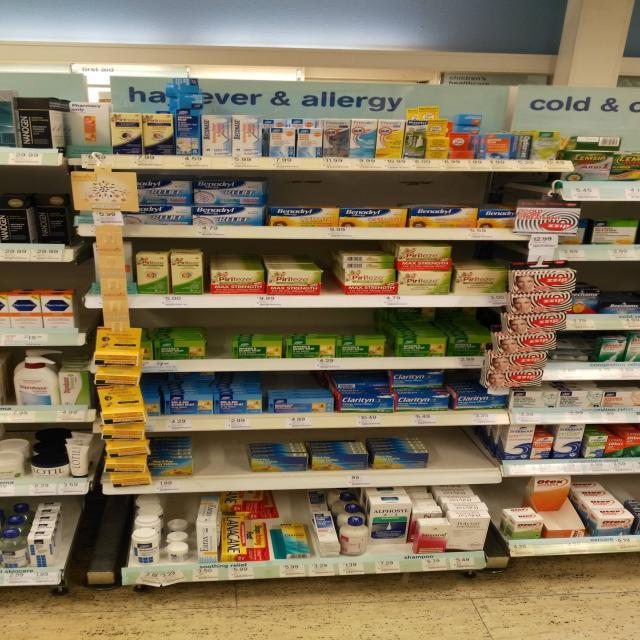void: (430, 424, 470, 485), (470, 426, 501, 483), (223, 431, 252, 491), (195, 433, 222, 491)
